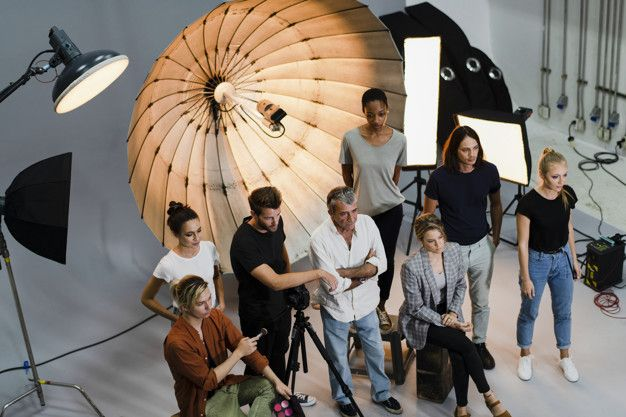person: (335, 66, 407, 189), (231, 183, 308, 290), (425, 125, 495, 232), (320, 178, 383, 293), (160, 278, 239, 362), (145, 196, 220, 283), (410, 218, 479, 309), (522, 143, 573, 249)
